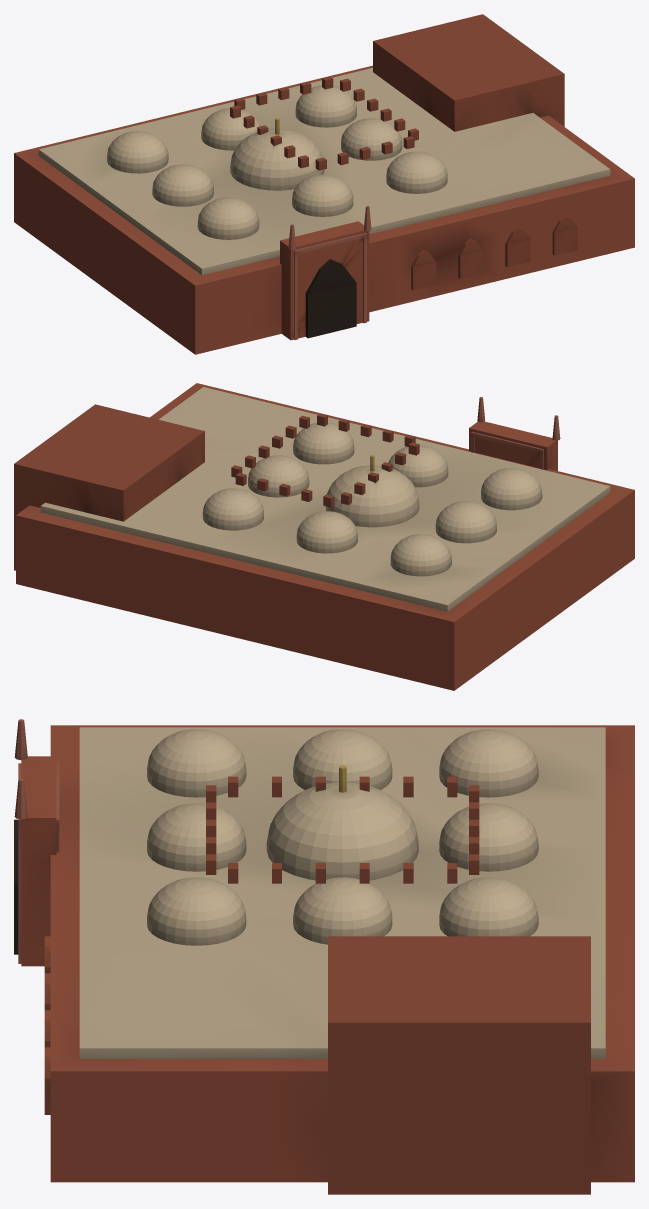
File: hakims-hammam.glb
3 renders of one model, top to bottom at view 1: azimuth 30°, elevation 25°; view 2: azimuth 150°, elevation 25°; view 3: azimuth 270°, elevation 25°, orthographic. The views are drawn at different scales.
Parts seen in each view (by area): view 1: p0_bath halls, p2_domes, p1_tank and domes; view 2: p0_bath halls, p2_domes, p1_tank and domes; view 3: p0_bath halls, p1_tank and domes, p2_domes.
Part boxes in pixels (x1=…): p0_bath halls: x1=14, y1=65, x2=634, y2=354; p2_domes: x1=107, y1=85, x2=447, y2=239; p1_tank and domes: x1=230, y1=14, x2=564, y2=170; p0_bath halls: x1=16, y1=383, x2=634, y2=690; p2_domes: x1=202, y1=422, x2=542, y2=576; p1_tank and domes: x1=14, y1=404, x2=419, y2=570; p0_bath halls: x1=14, y1=719, x2=634, y2=1182; p1_tank and domes: x1=206, y1=776, x2=590, y2=1194; p2_domes: x1=147, y1=729, x2=538, y2=945.
Bounding box in the file's own units: 29 × 7.76 × 21.25.
